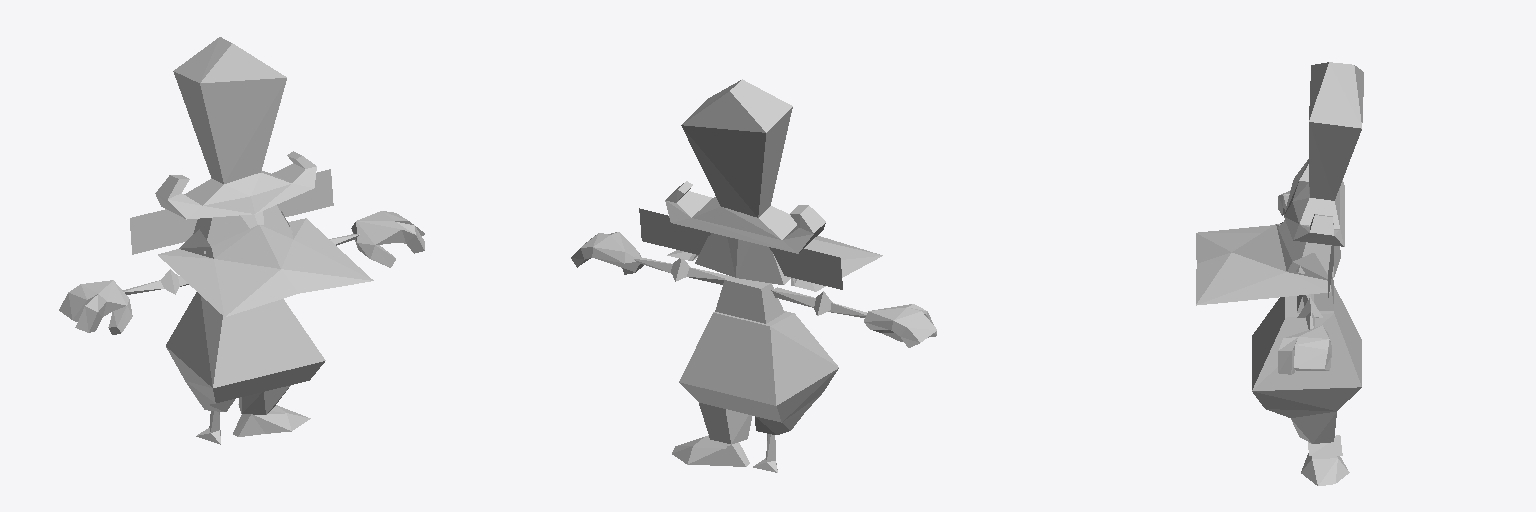
The model's file is Razorbeard_OBJ.obj.
3 views of the same model, side by side, from view 1: azimuth 30°, elevation 25°; view 2: azimuth 150°, elevation 25°; view 3: azimuth 270°, elevation 25° (orthographic).
Parts seen in each view (by area): view 1: Mesh_0011; view 2: Mesh_0011; view 3: Mesh_0011.
Part boxes in pixels (bbox=[...]): Mesh_0011: bbox=[59, 37, 424, 444]; Mesh_0011: bbox=[571, 79, 936, 472]; Mesh_0011: bbox=[1196, 62, 1363, 485].
Bounding box in the file's own units: 222 × 233 × 91.83.